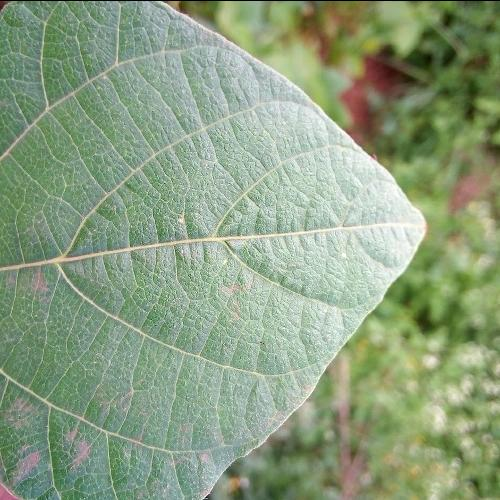hawar: (154, 162, 264, 308), (0, 361, 106, 486), (12, 246, 70, 316)
